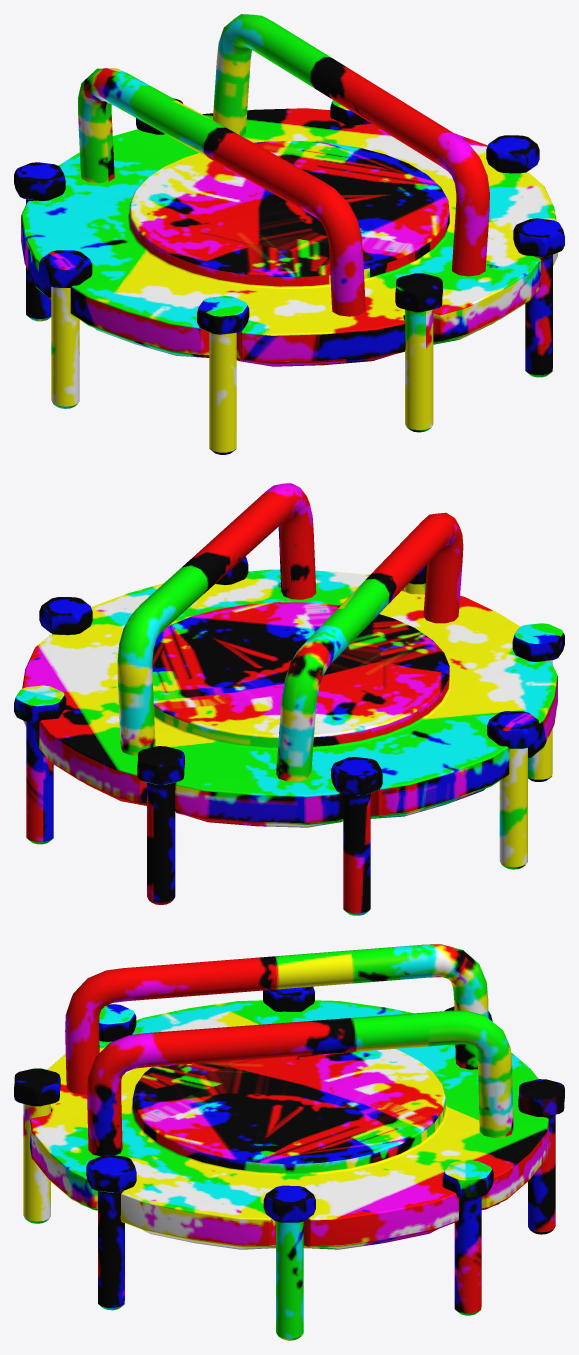
Rendered from sm_PipeCap_01_02.fbx.
3 views of the same model, one above another, from view 1: azimuth 30°, elevation 25°; view 2: azimuth 150°, elevation 25°; view 3: azimuth 270°, elevation 25° (orthographic). The views are drawn at different scales.
Parts seen in each view (by area): view 1: sm_PipeCap_01_02_LOD0; view 2: sm_PipeCap_01_02_LOD0; view 3: sm_PipeCap_01_02_LOD0.
Boxes of the visible parts, bbox=[...] form: sm_PipeCap_01_02_LOD0: bbox=[14, 14, 564, 454]; sm_PipeCap_01_02_LOD0: bbox=[14, 483, 564, 915]; sm_PipeCap_01_02_LOD0: bbox=[14, 944, 564, 1340].
Size of the model in its own units: 29.01 by 28.99 by 14.56.
